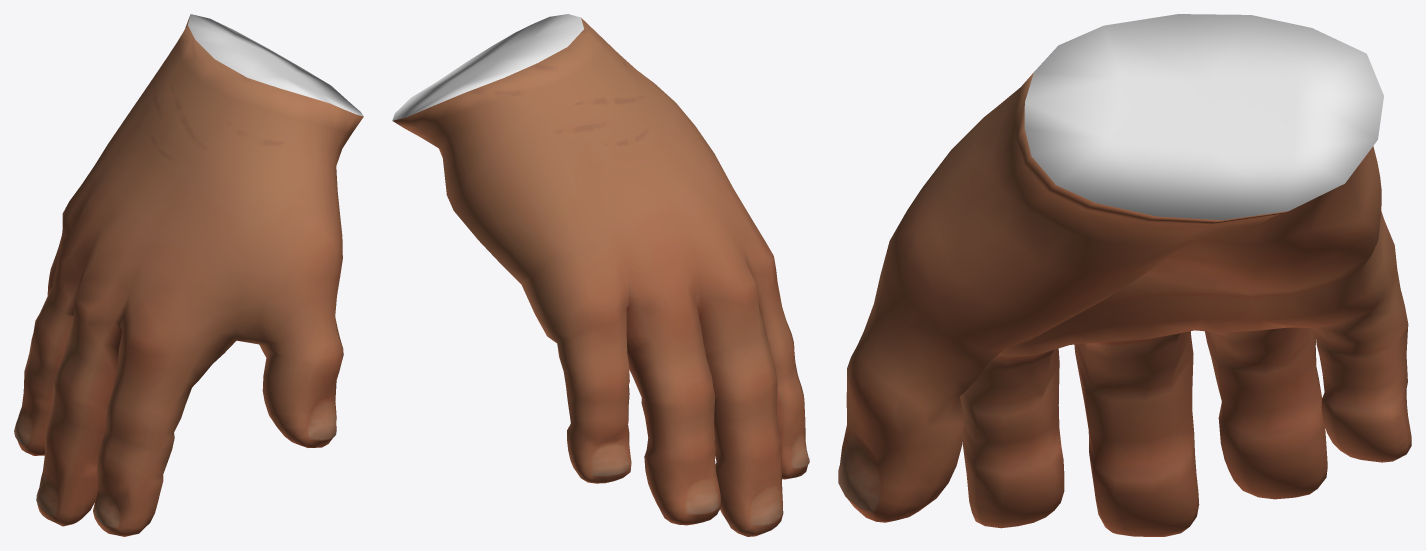
The model's file is Hand.fbx.
3 views of the same model, side by side, from view 1: azimuth 30°, elevation 25°; view 2: azimuth 150°, elevation 25°; view 3: azimuth 270°, elevation 25° (orthographic). The views are drawn at different scales.
Visible parts, largest first — view 1: hand, handlid; view 2: hand, handlid; view 3: hand, handlid.
Part boxes in pixels (x1,y1,x2,y2): hand: (14,15,363,536); handlid: (188,14,363,116); hand: (393,18,809,536); handlid: (392,14,583,120); hand: (838,72,1411,536); handlid: (1024,14,1383,220).
Bounding box in the file's own units: 17.61 × 22.3 × 17.89.
